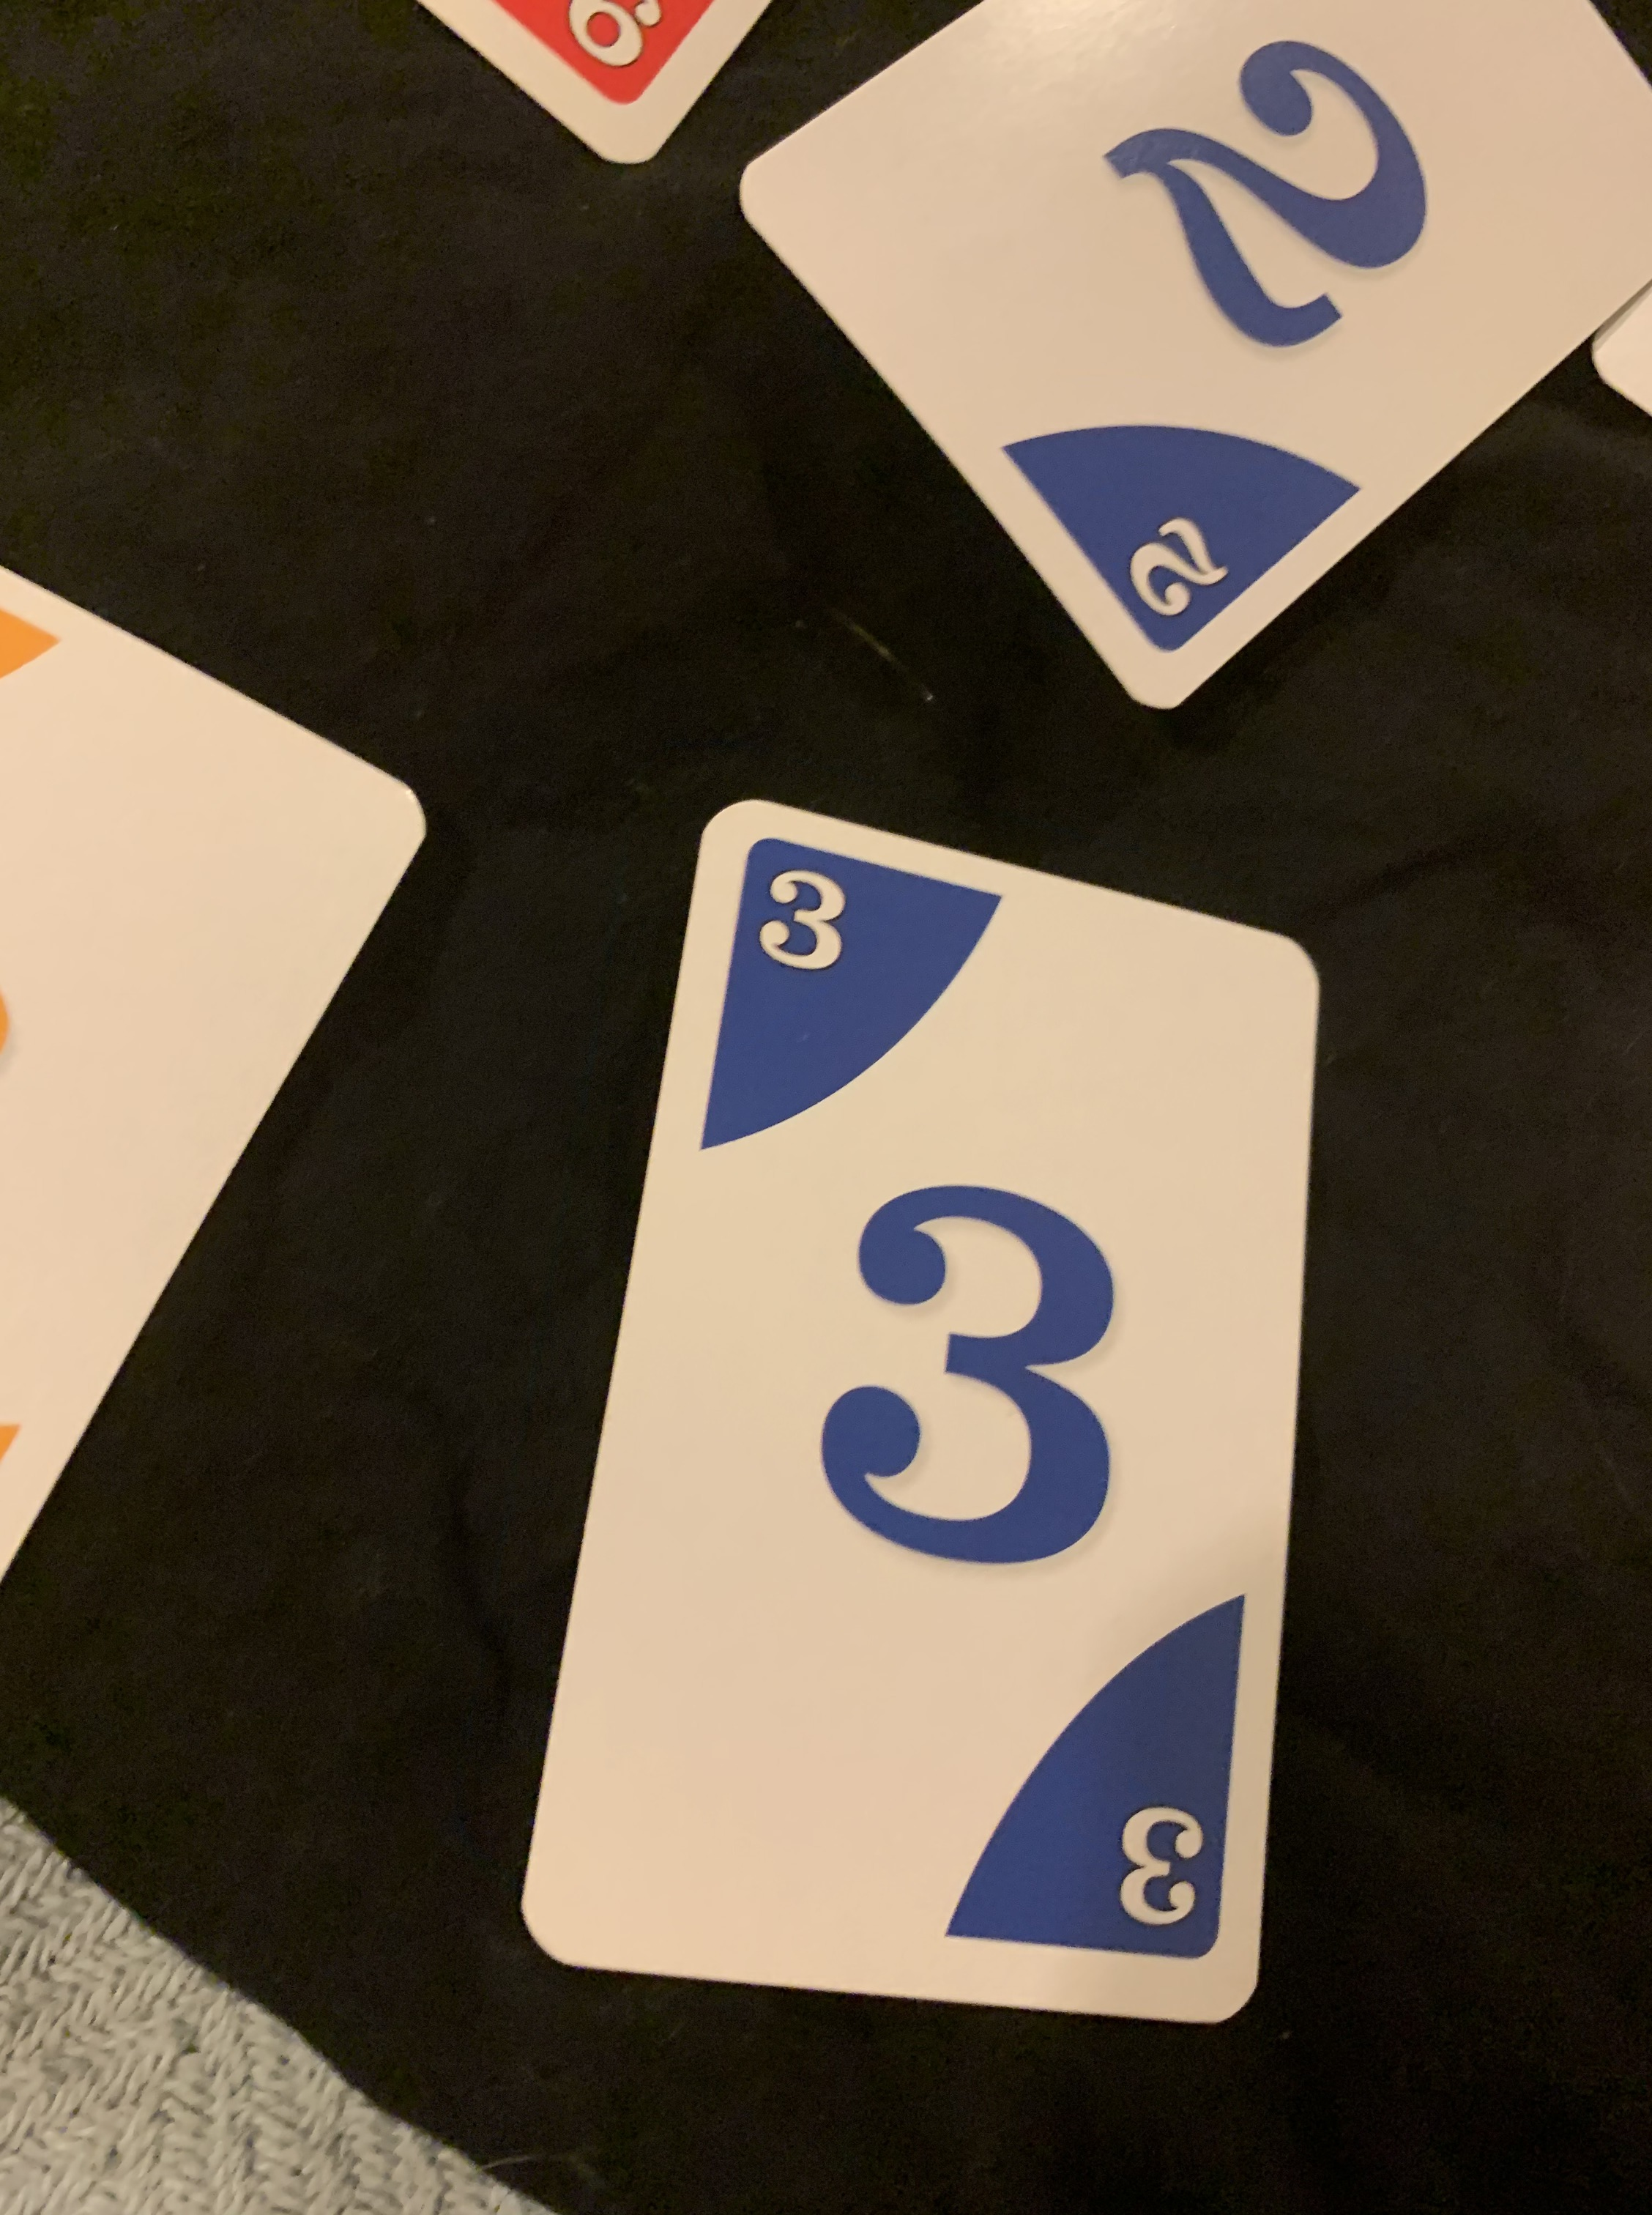three: (502, 802, 1324, 2041)
two: (718, 0, 1650, 713)
